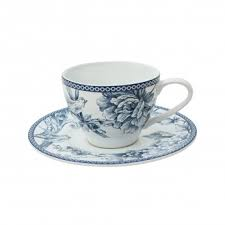cup: (23, 56, 201, 170)
